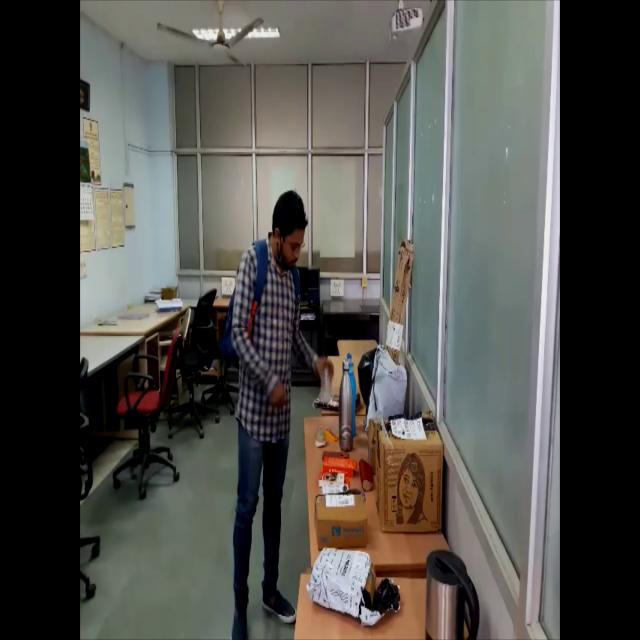normal: (213, 179, 335, 640)
